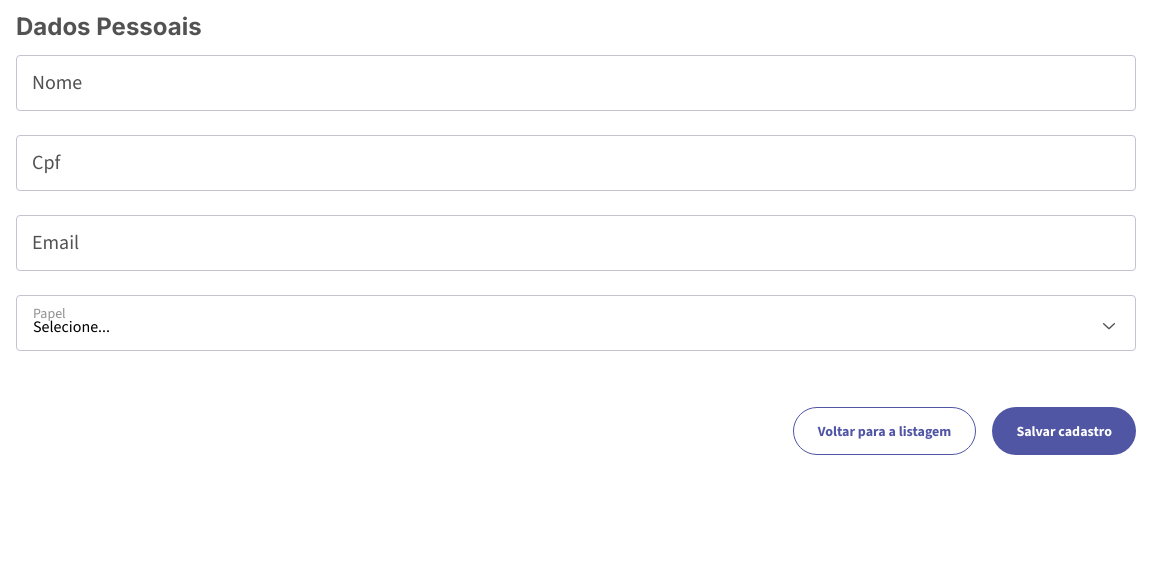
Test: EmployeeFormPresentation › should render inputs with default errors
Click the button "Salvar cadastro": (1064, 431) [992,407,1136,455]
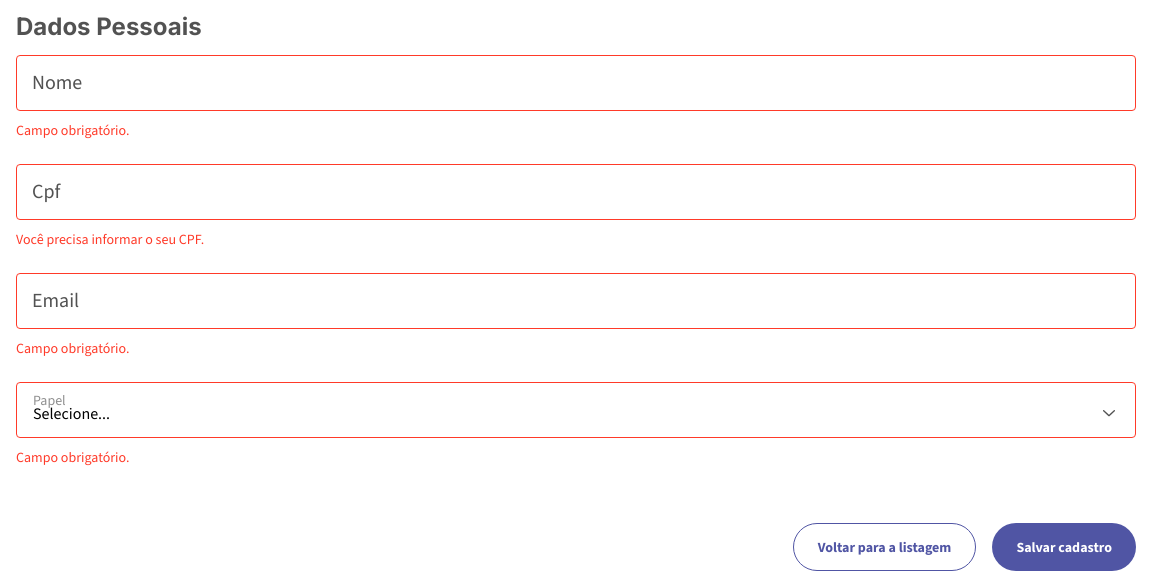
Now the number of messages is 4, box [16,121,130,140]; [16,230,204,249]; [16,339,130,358]; [16,448,130,467]
Now the message "Campo obrigatório." below "Nome" is shown, box [16,121,130,140]
Now the message "Você precisa informar o seu CPF." is shown, box [16,230,204,249]
